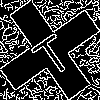T: (25, 25, 76, 80)
